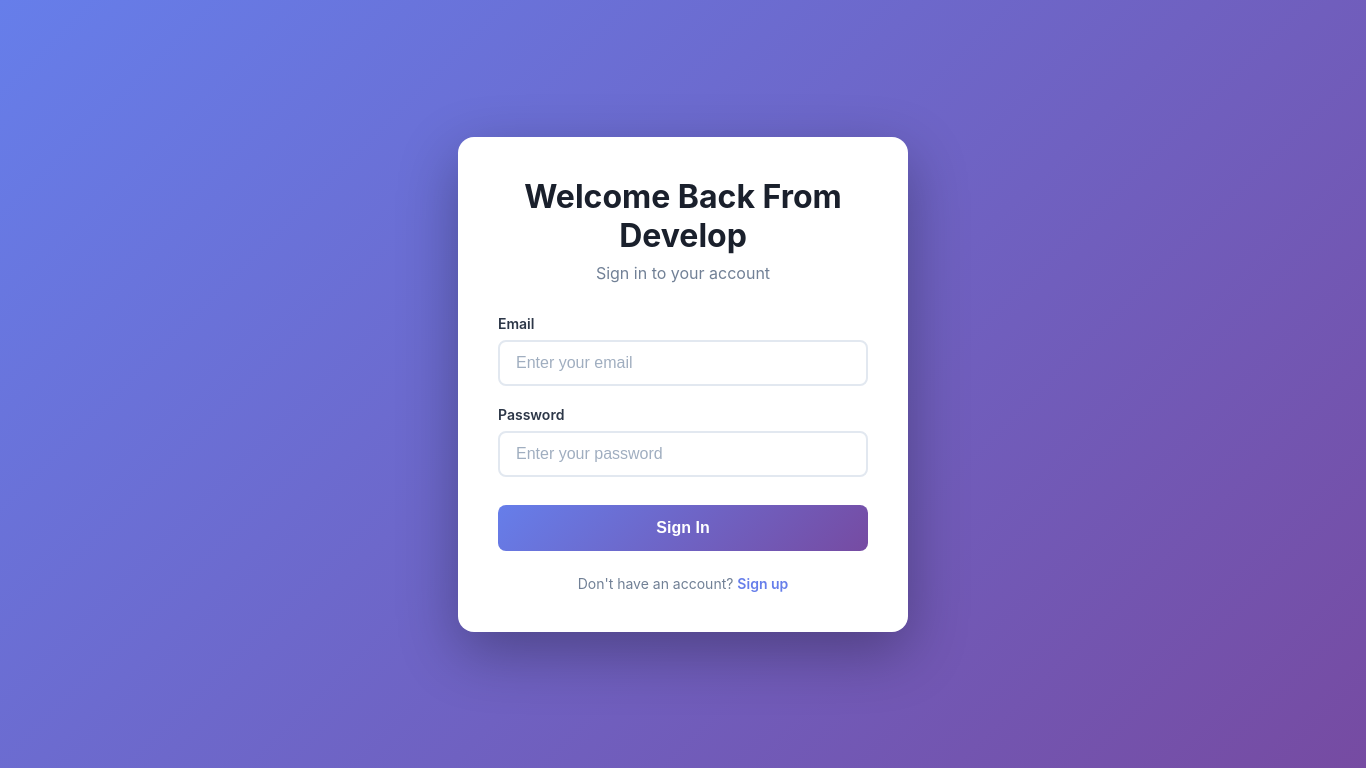
Test: Login Component › should handle network error
Type "test@example.com" into the field labelled "Email" at coordinates (683, 362), box x1=498 y1=340 x2=868 y2=386
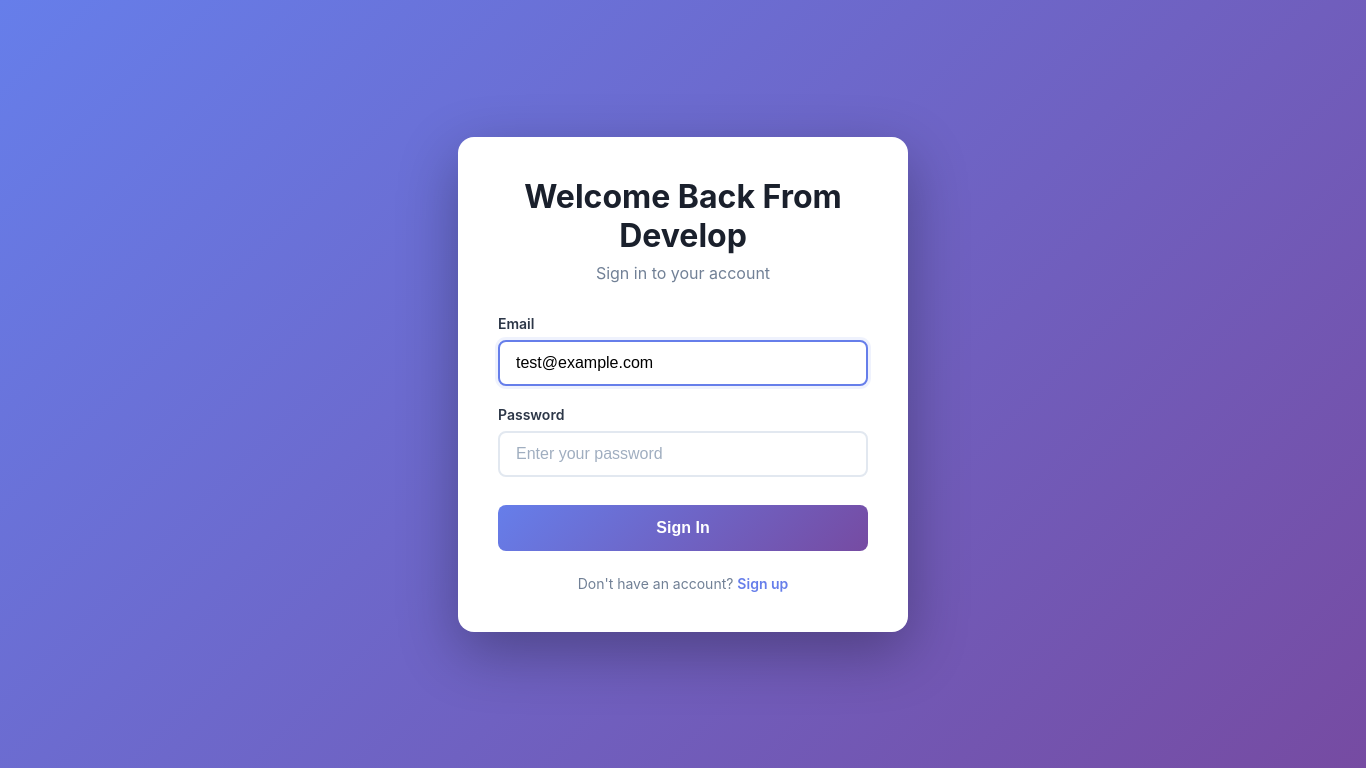
Type "password123" into the password field labelled "Password" at coordinates (683, 454), box x1=498 y1=430 x2=868 y2=476
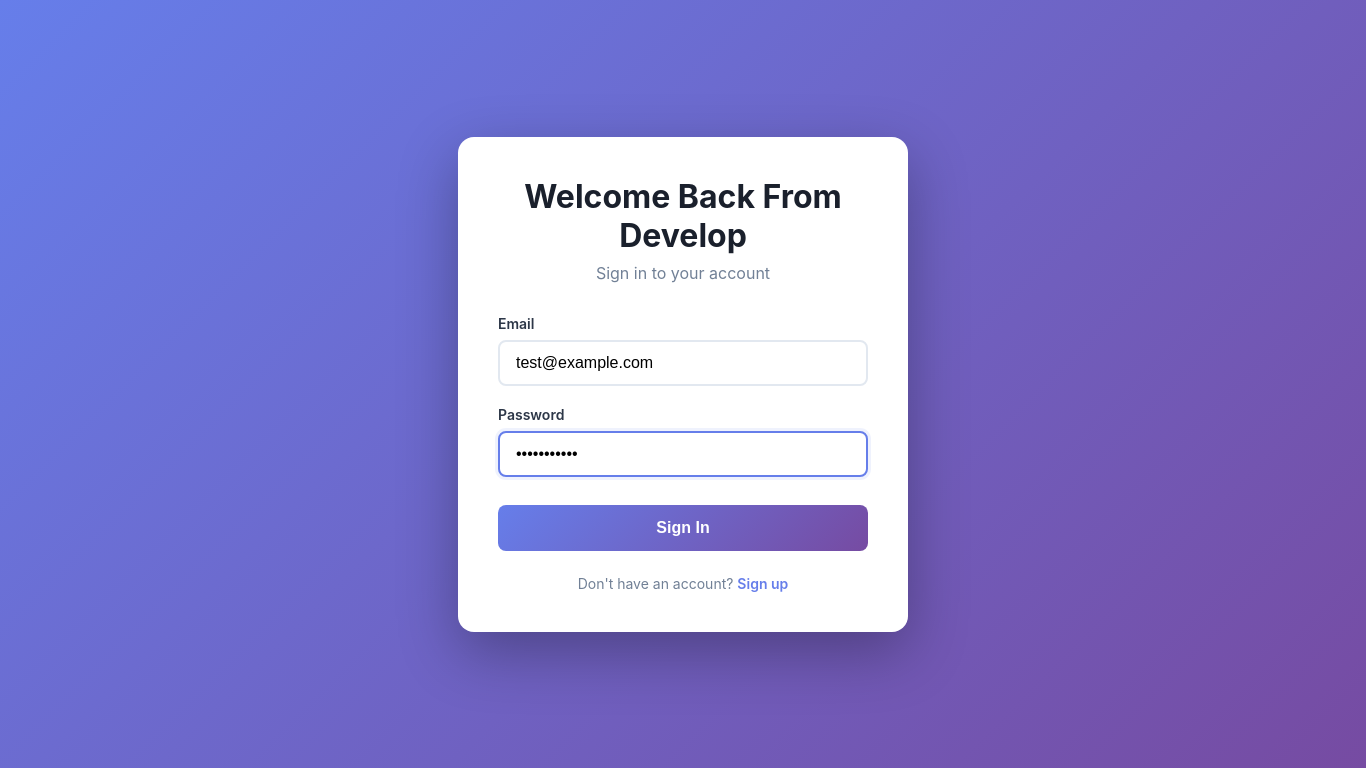
Click the button "Sign In" at coordinates (683, 528), box x1=498 y1=504 x2=868 y2=550
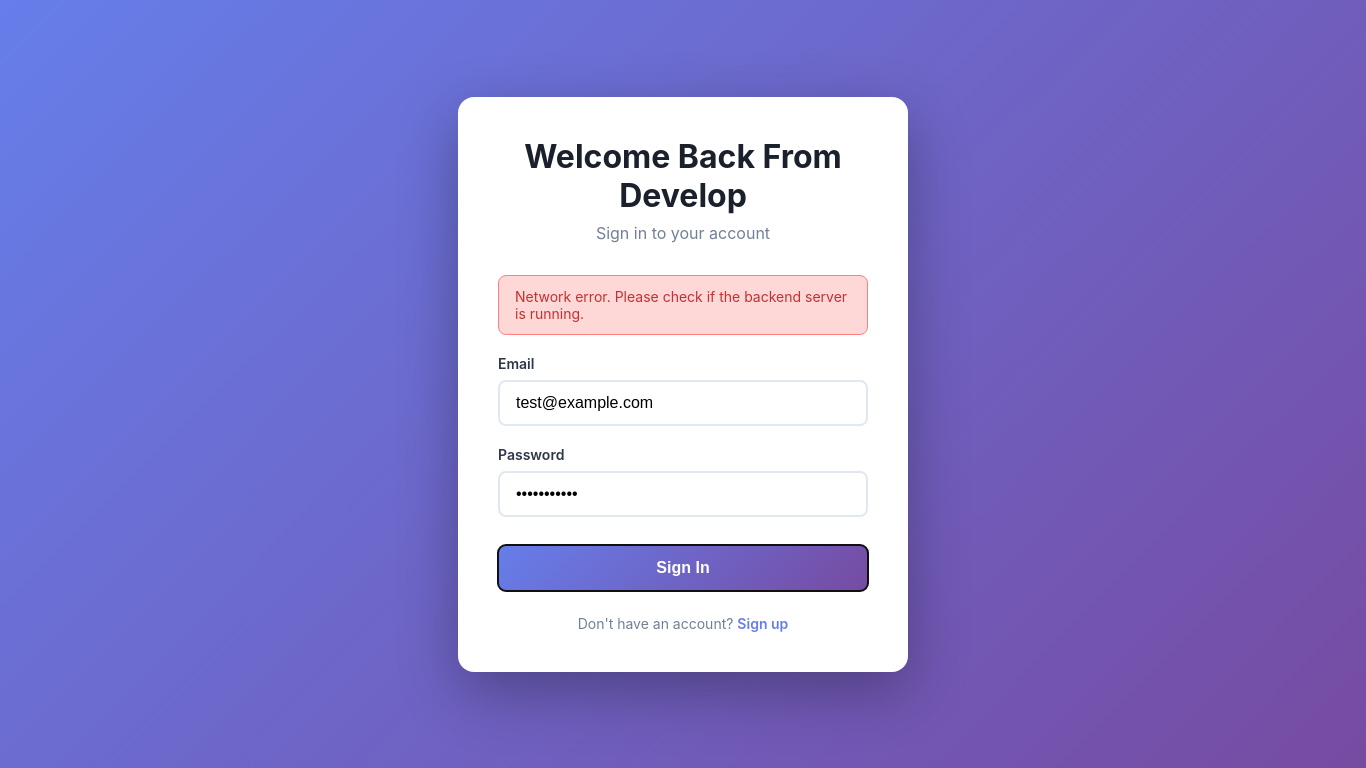
Now the text "Network error" is shown, box x1=515 y1=288 x2=847 y2=322
